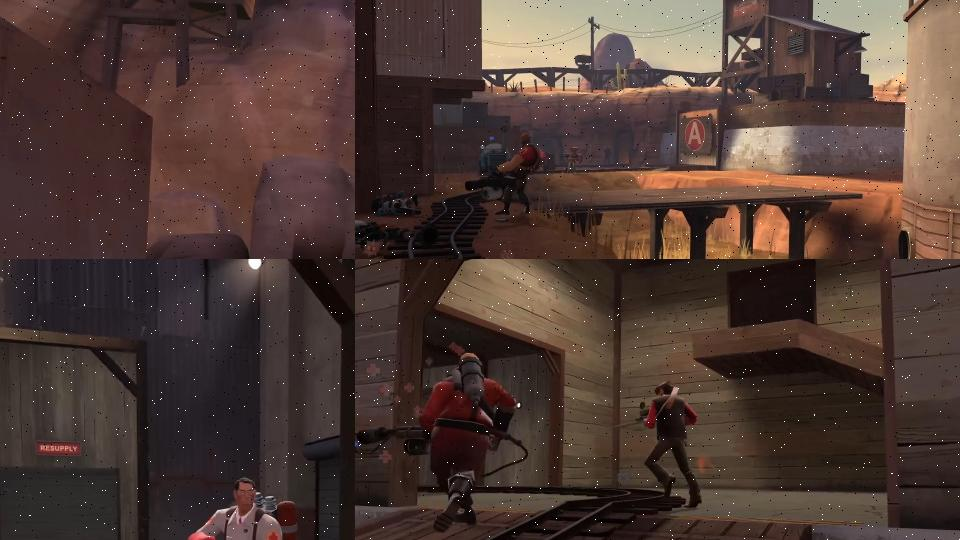Enemy: (355, 348, 528, 537), (168, 449, 328, 540), (611, 374, 705, 514), (465, 132, 547, 215), (377, 191, 421, 218)
